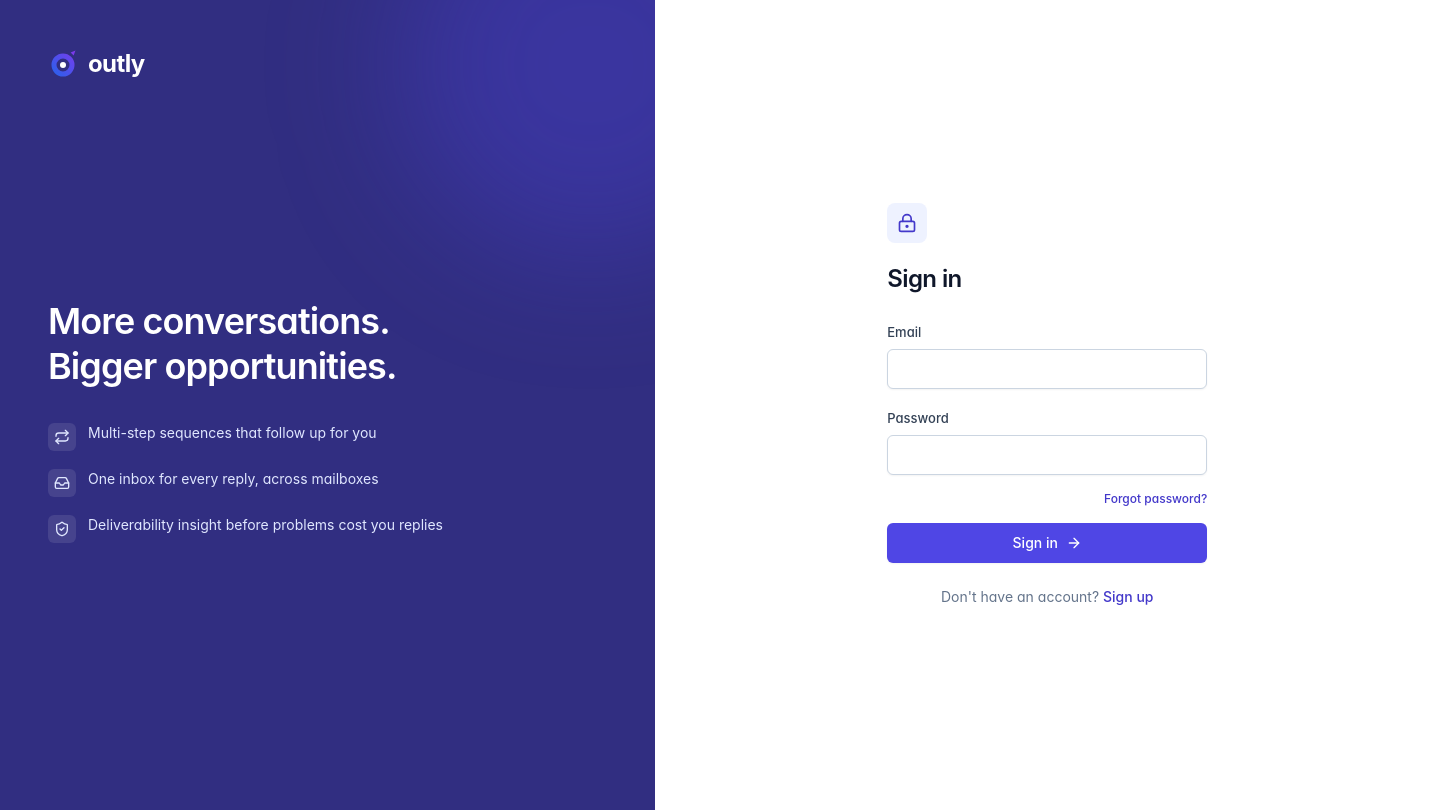
Test: LoginPage › shows validation errors instead of submitting an empty form
Click the button "Sign in": {"x": 1047, "y": 543} left=887, top=523, right=1207, bottom=563
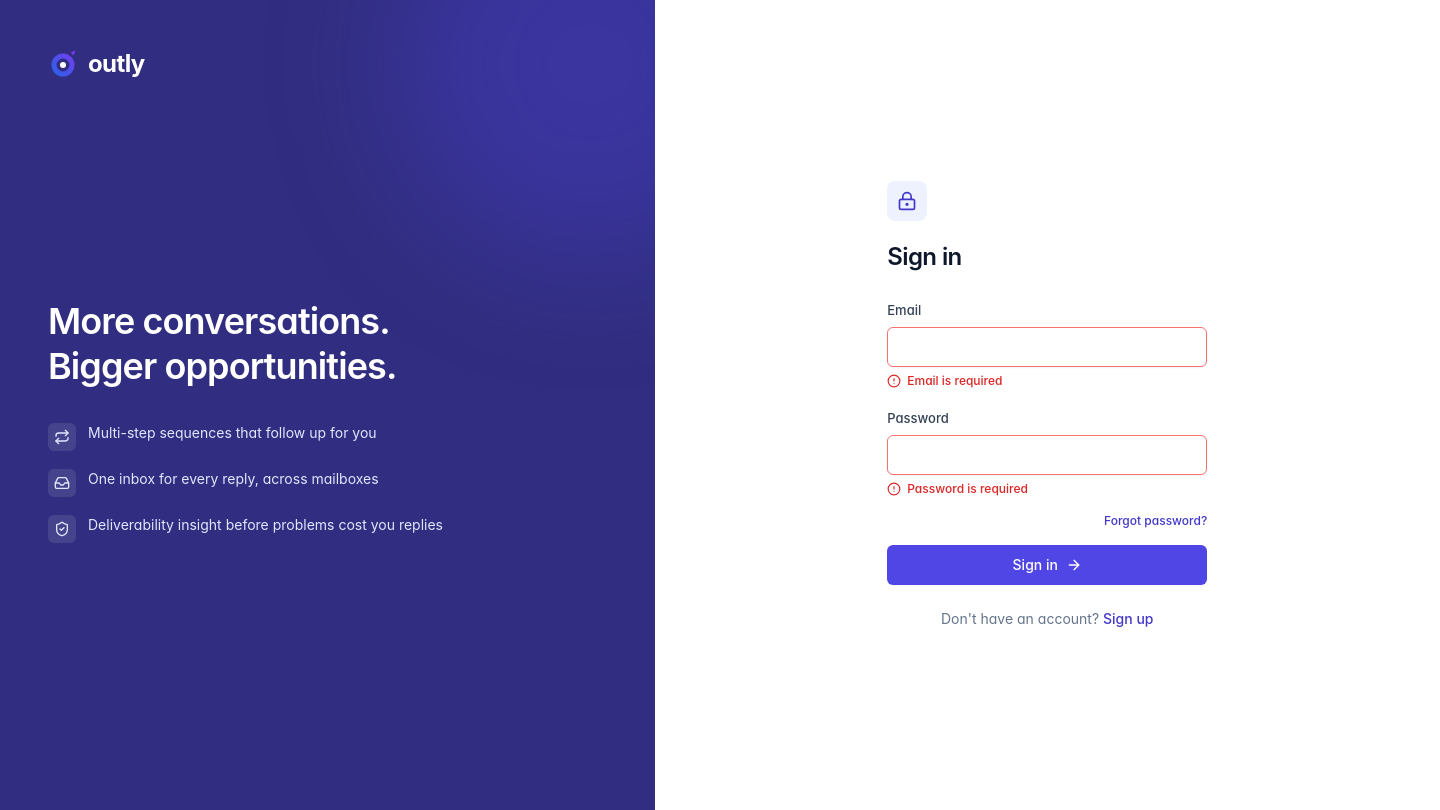
Result: the text "Email is required" is shown at left=887, top=373, right=1003, bottom=388
